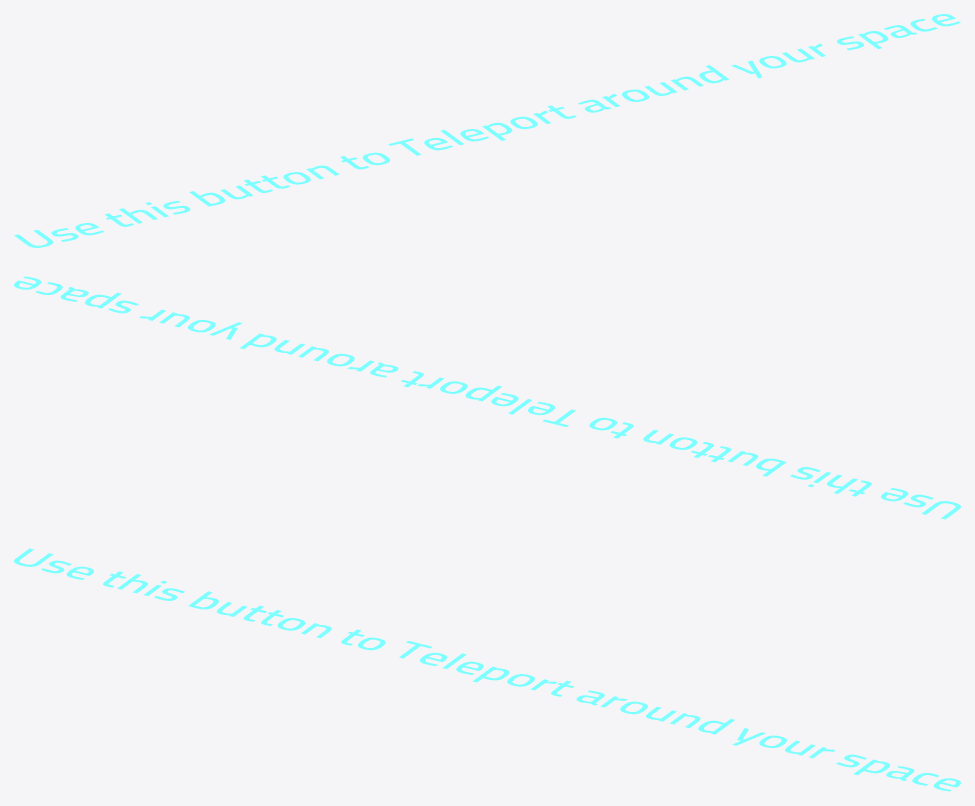
Rendered from FTUE-teleport-sign--2.fbx.
The picture shows the model from 3 angles, top to bottom: view 1: azimuth 30°, elevation 25°; view 2: azimuth 150°, elevation 25°; view 3: azimuth 330°, elevation 25°; orthographic projection.
Visible parts, largest first — view 1: Text; view 2: Text; view 3: Text.
Part boxes in pixels (x1,y1,x2,y2): Text: (14, 14, 960, 247); Text: (14, 276, 960, 519); Text: (14, 548, 960, 791).
Size of the model in its own units: 706 by 5.55e-06 by 34.06.
